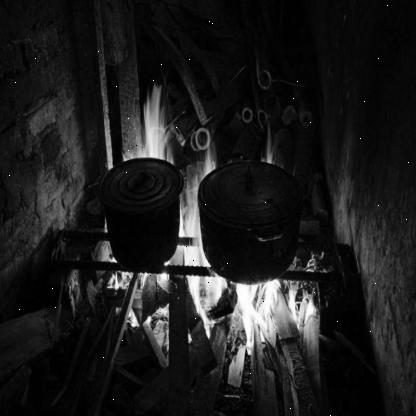fire: (98, 83, 308, 348)
